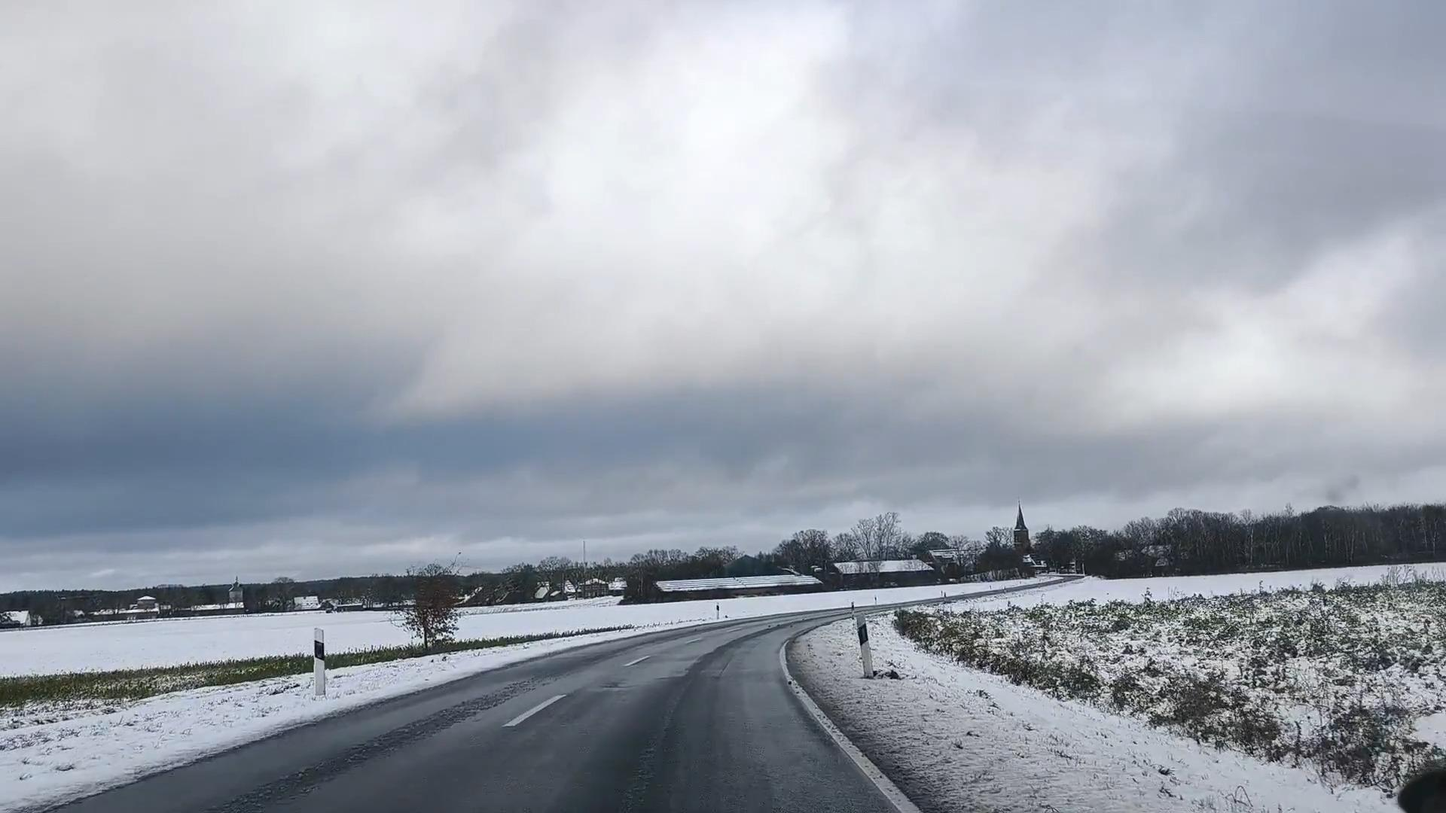Snow: (793, 566, 1445, 812), (0, 614, 624, 810)
wet: (40, 595, 911, 813)
